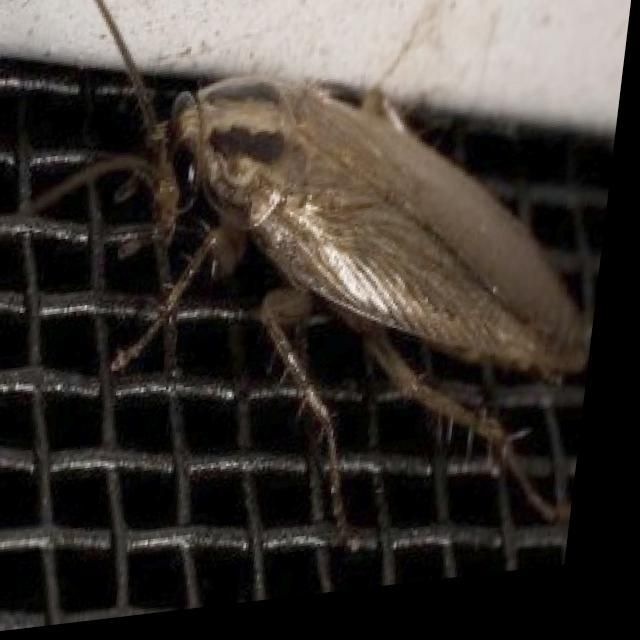cockroach: (170, 71, 593, 385)
